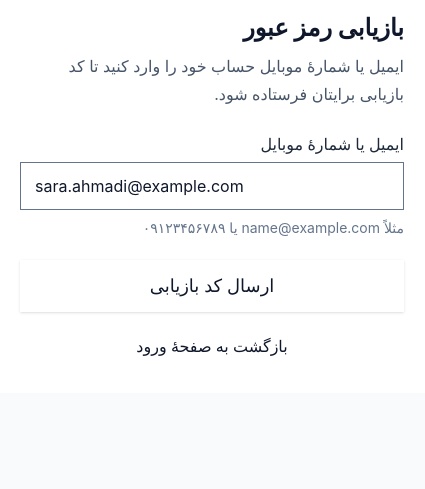
ForgotPasswordFlow › a 429 on the request holds «ارسال کد بازیابی» for retry_after seconds
Click the button "ارسال کد بازیابی": (212, 286) [20,260,404,312]
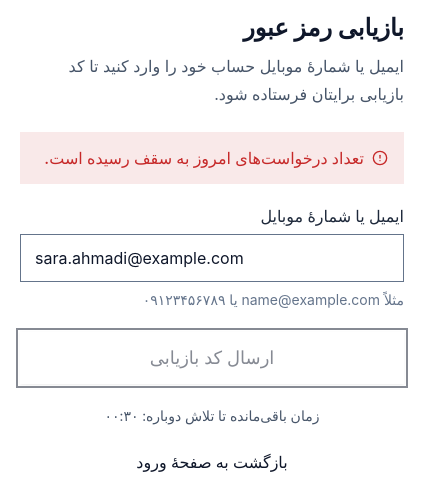
Result: the message reads "تعداد درخواست‌های امروز به سقف رسیده است." at [44,148,364,168]
Click the button "ارسال کد بازیابی": (212, 358) [20,332,404,384]
Wait 30000 ms
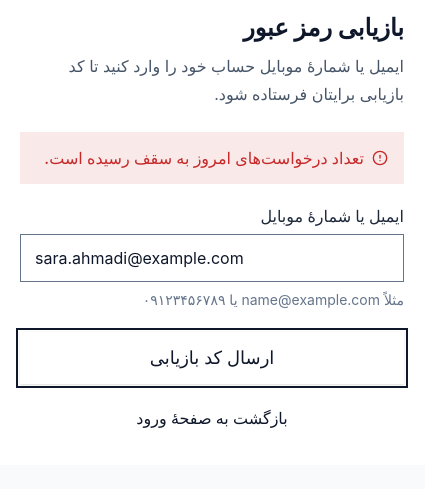
Result: the button "ارسال کد بازیابی" does not have attribute aria-disabled at [20,332,404,384]
